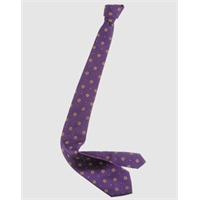tie: (60, 4, 146, 196)
